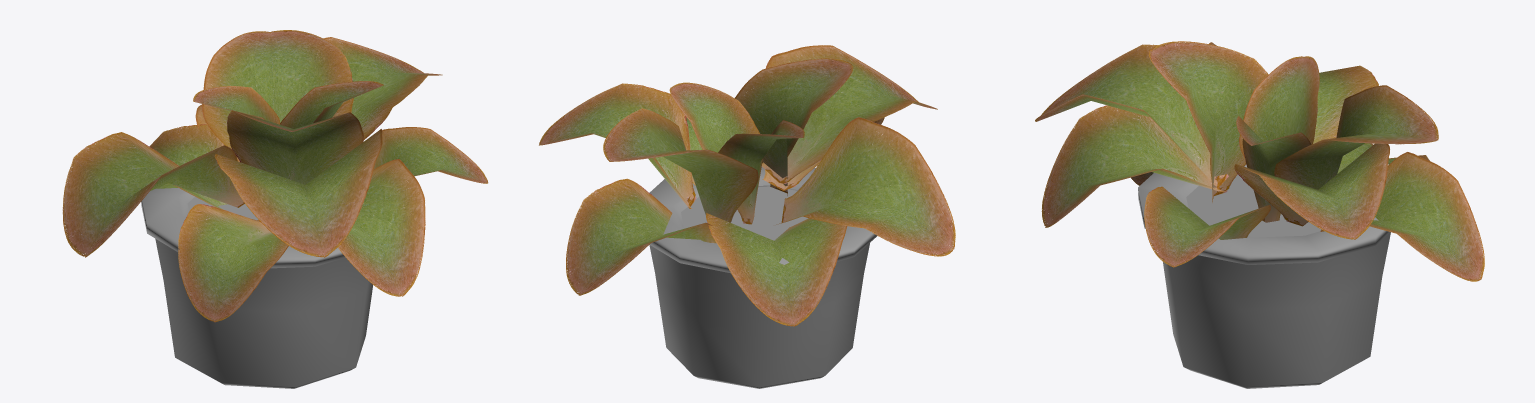
Rendered from Kalanchoe_leaf_lod0.fbx.
The picture shows the model from 3 angles, left to right: view 1: azimuth 30°, elevation 25°; view 2: azimuth 150°, elevation 25°; view 3: azimuth 270°, elevation 25°; orthographic projection. The views are drawn at different scales.
Parts seen in each view (by area): view 1: Kalanchoe_leaf_lod0; view 2: Kalanchoe_leaf_lod0; view 3: Kalanchoe_leaf_lod0.
Part boxes in pixels (x1,y1,x2,y2): Kalanchoe_leaf_lod0: [62, 30, 488, 388]; Kalanchoe_leaf_lod0: [539, 45, 955, 388]; Kalanchoe_leaf_lod0: [1035, 41, 1484, 388].
Size of the model in its own units: 52.19 by 35.17 by 54.26.
2 materials, 1 textured.
